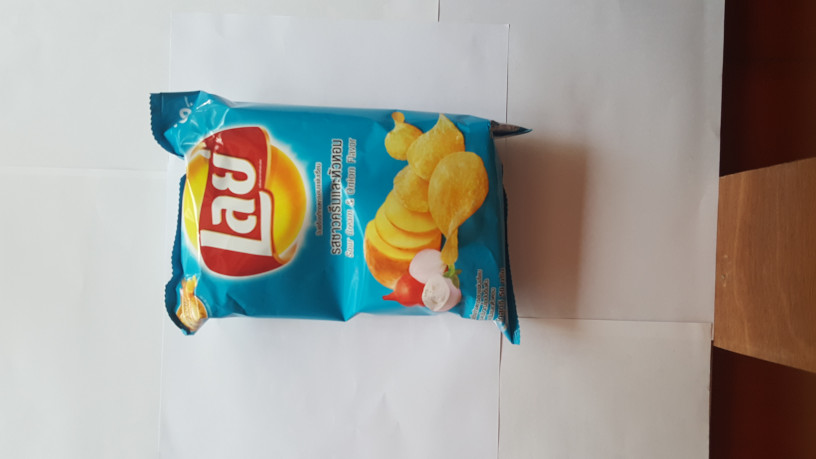lays-onion: (136, 82, 554, 354)
